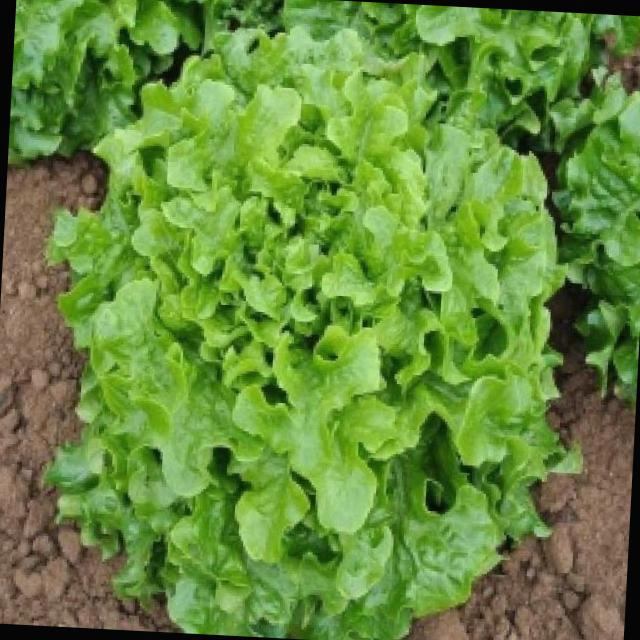Lettuce-Ready-to-Harvest: (50, 29, 569, 640), (283, 0, 640, 157), (8, 0, 283, 163), (556, 90, 640, 402)
